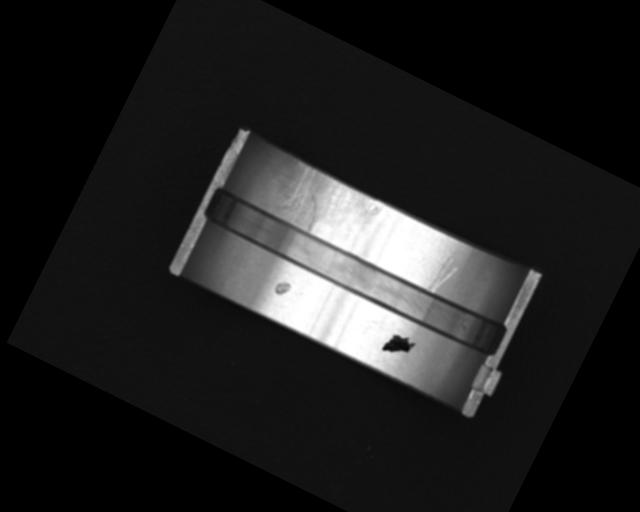blot: (380, 328, 417, 362)
bruise: (271, 277, 293, 299)
gap: (200, 184, 510, 363)
nick: (427, 252, 461, 297)
scratch: (262, 155, 384, 256)
